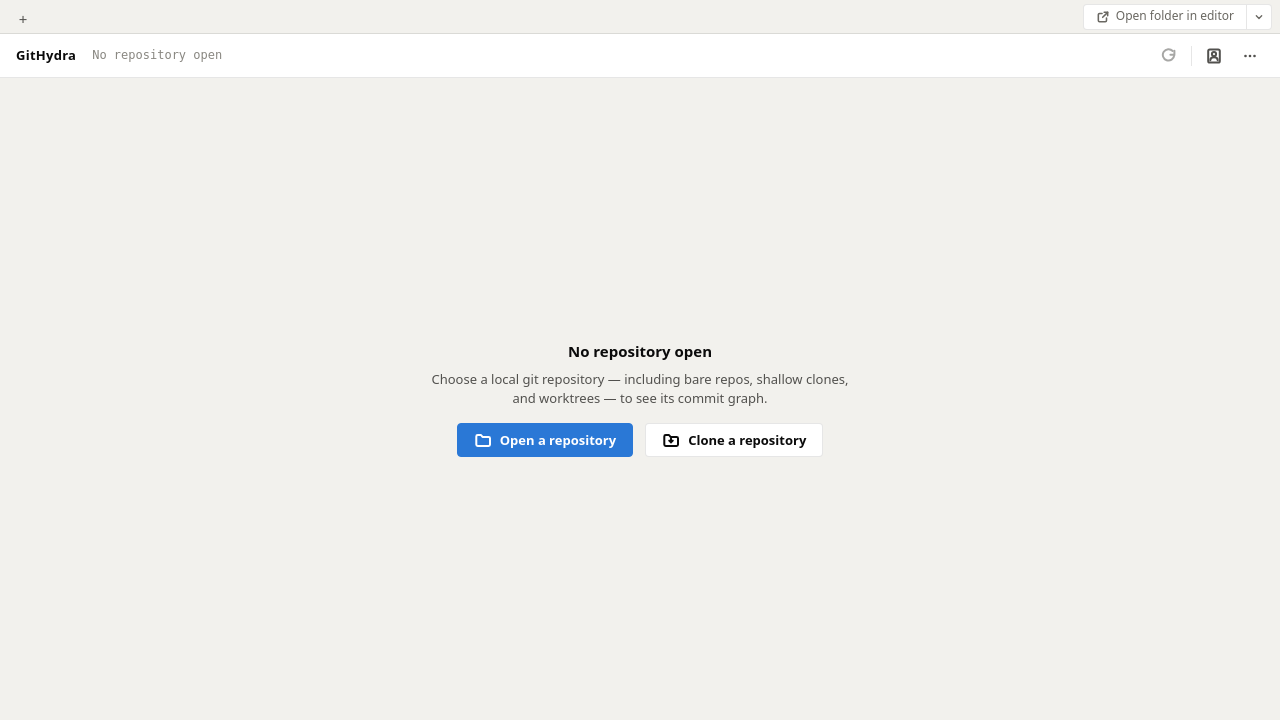
Test case: App › shows an explicit 'no matching commits' state when a filter narrows results to zero (FR-14)
The image size is (1280, 720).
Click the button "Open a repository".
click(545, 440)  # box [457, 423, 633, 457]
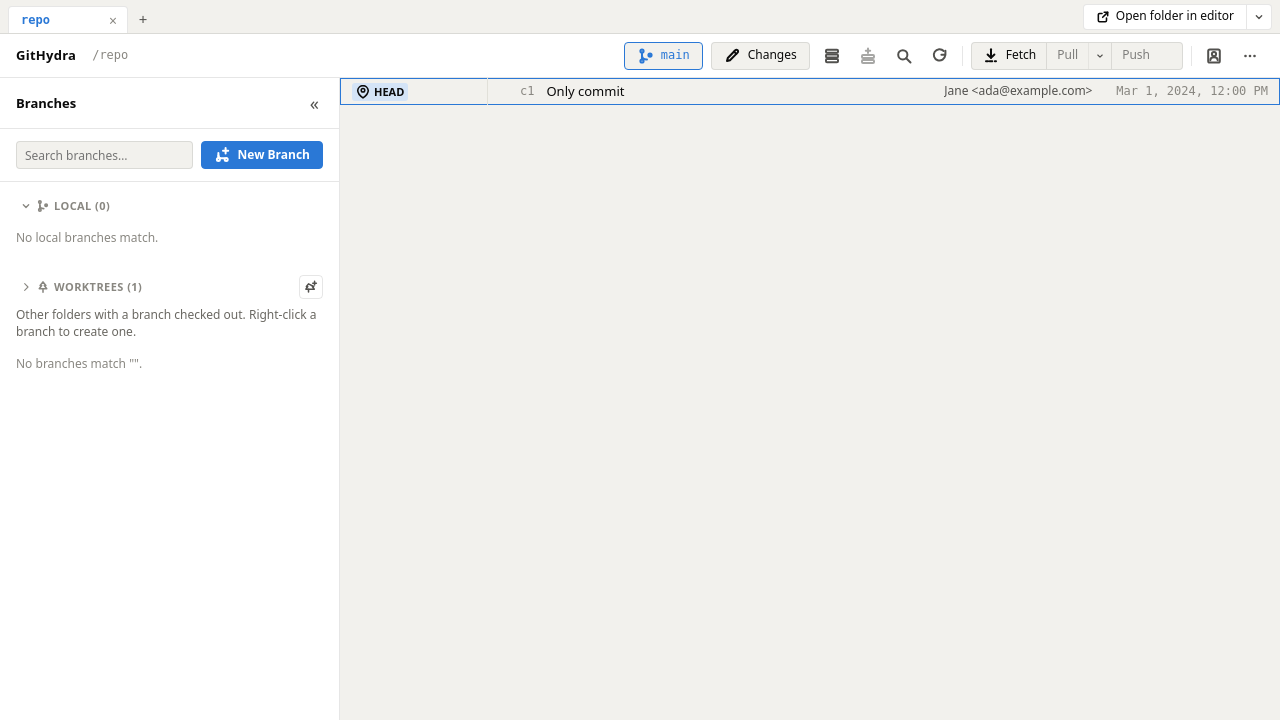
Expected: the text "Only commit" is shown, [546, 82, 624, 100]
Click the button named "find commits".
click(904, 56)  # box [890, 42, 918, 70]
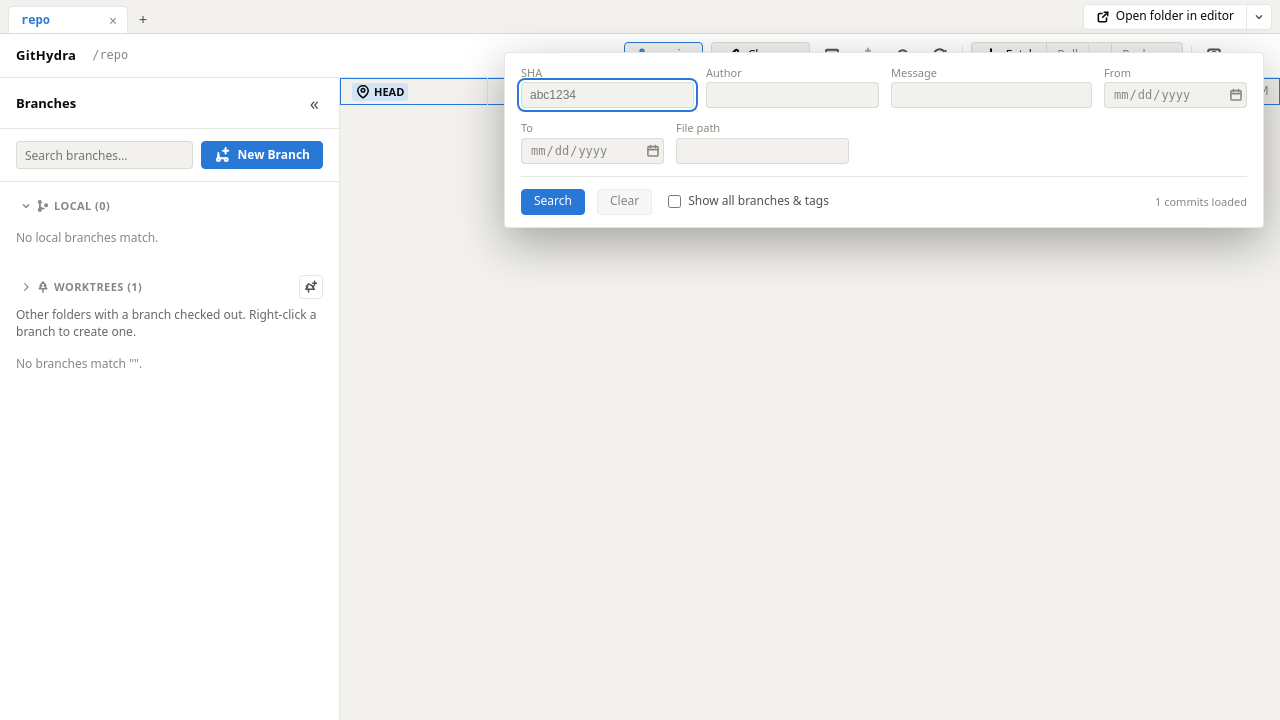
Type "nobody-matches-this" into the field labelled "Author".
click(792, 95); type("nobody-matches-this")  # box [706, 82, 879, 108]
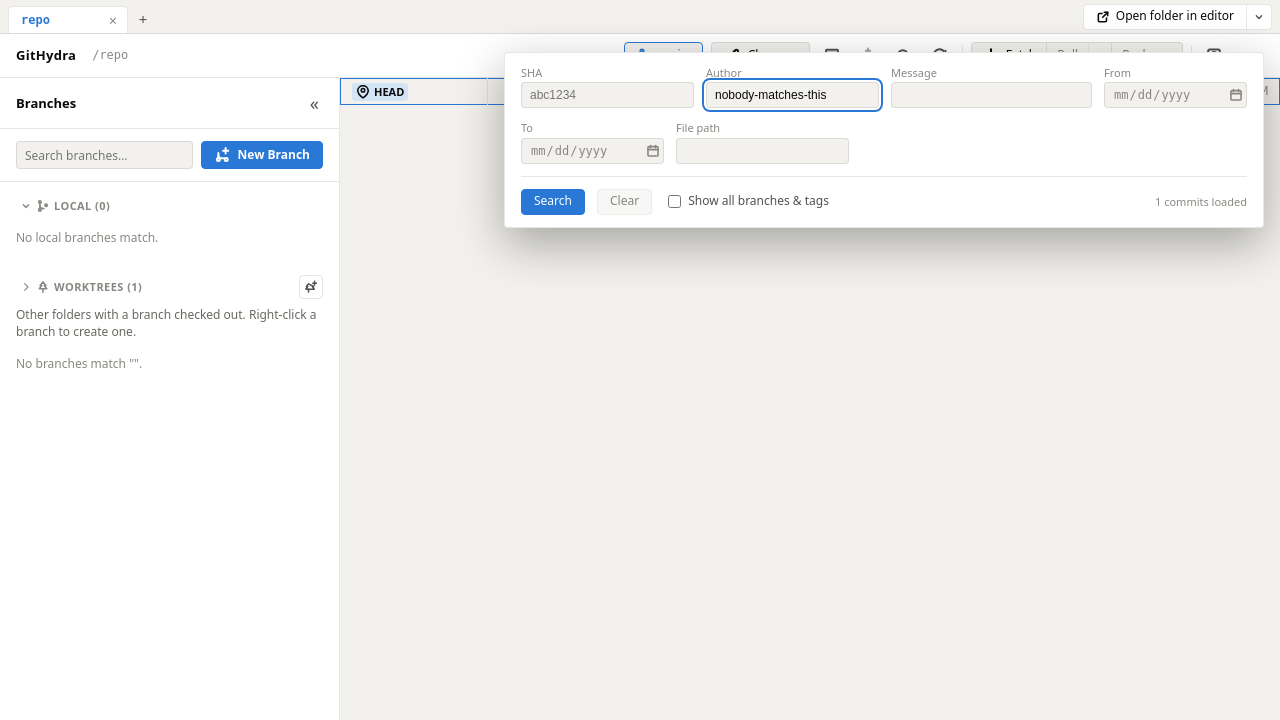
Click the button "Search".
click(553, 202)  # box [521, 189, 585, 215]
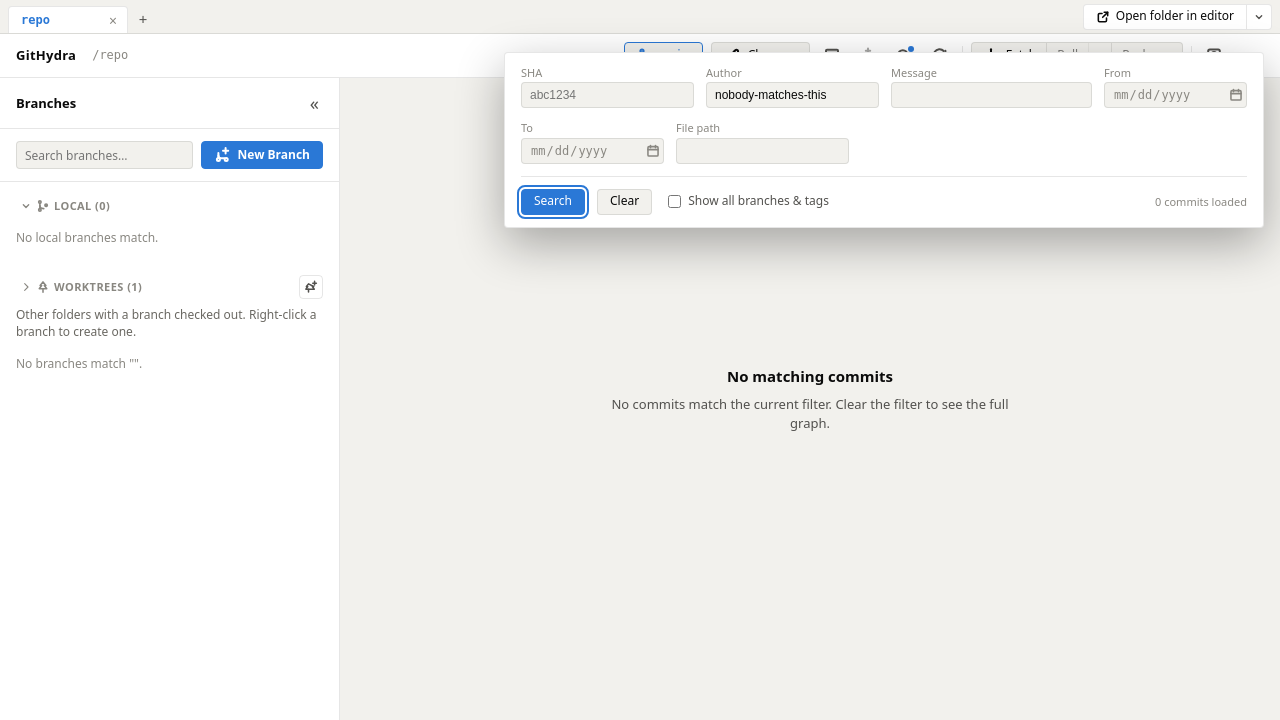
Expected: the text "No matching commits" is shown, [727, 366, 893, 387]
Expected: the option "Only commit" is gone
